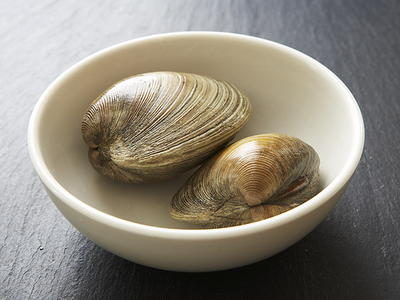cockle: (79, 69, 253, 184), (174, 132, 324, 227)
